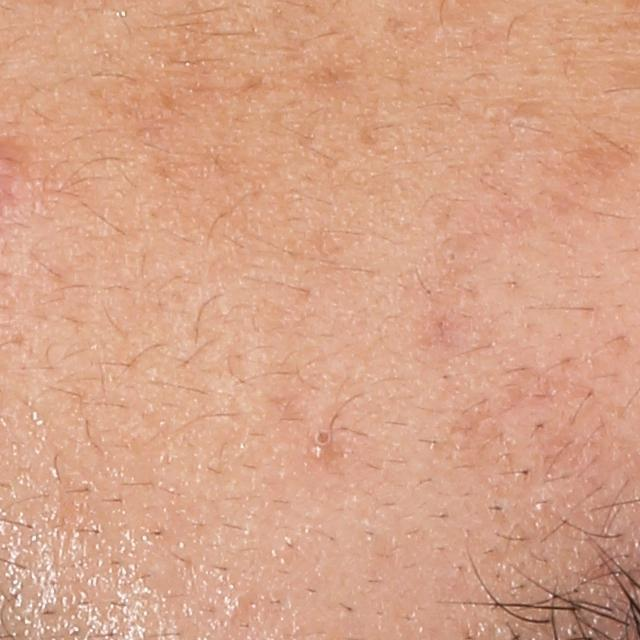comedo: (310, 426, 337, 461), (505, 110, 530, 139), (442, 246, 458, 265)
